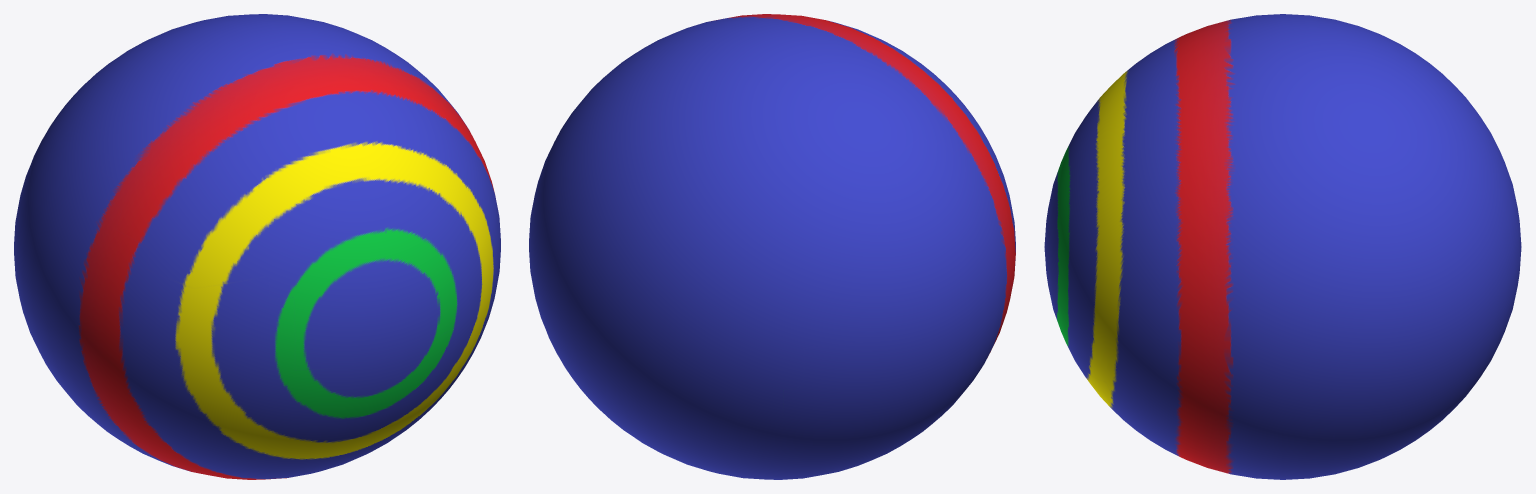
The model's file is Без имени.glb.
The picture shows the model from 3 angles, left to right: view 1: azimuth 30°, elevation 25°; view 2: azimuth 150°, elevation 25°; view 3: azimuth 270°, elevation 25°; orthographic projection.
Visible parts, largest first — view 1: mesh_id30; view 2: mesh_id30; view 3: mesh_id30.
Part boxes in pixels (box(x1,y1,x2,y2)): mesh_id30: box(14, 14, 500, 479); mesh_id30: box(529, 14, 1015, 479); mesh_id30: box(1044, 14, 1521, 479).
Size of the model in its own units: 0.217 by 0.2049 by 0.212.
1 material, 1 textured.
